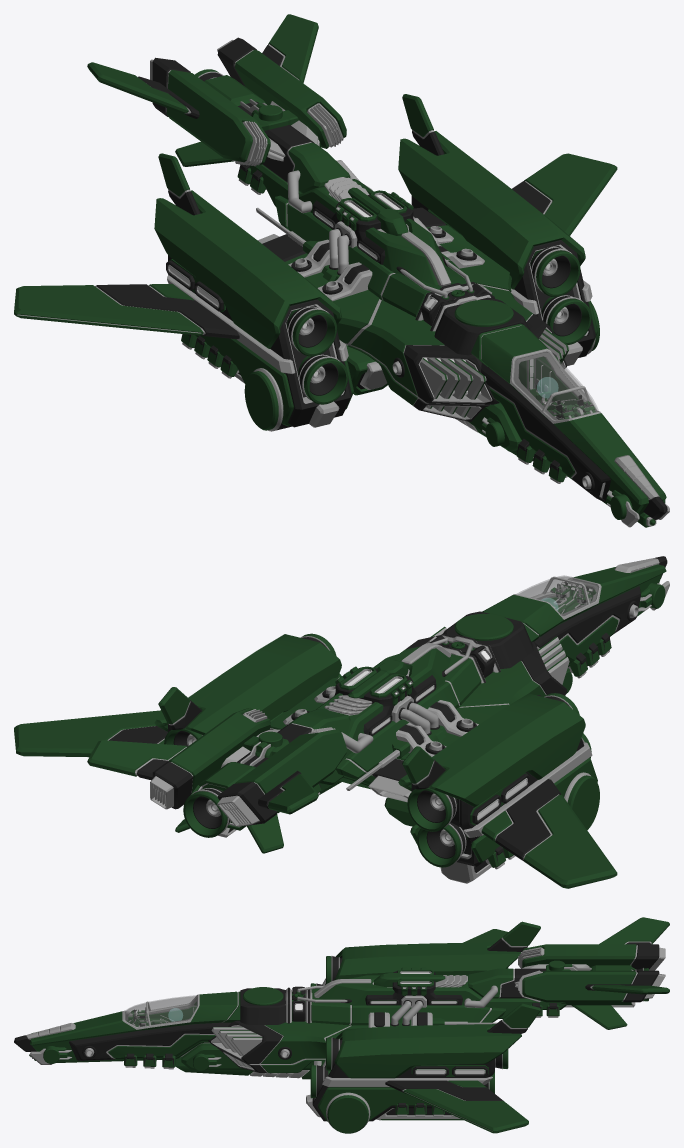
Rendered from FAT EAGLE MKIII FBX.fbx.
3 views of the same model, one above another, from view 1: azimuth 30°, elevation 25°; view 2: azimuth 150°, elevation 25°; view 3: azimuth 270°, elevation 25° (orthographic). The views are drawn at different scales.
Visible parts, largest first — view 1: Fat Eagle Mk III, Engine Parts, Engine R, Engine L, Canopy, Interior, Centre Pieces; view 2: Fat Eagle Mk III, Engine Parts, Engine R, Engine L, Centre Pieces, Canopy, Interior; view 3: Fat Eagle Mk III, Engine L, Engine Parts, Engine R, Canopy, Interior, Centre Pieces.
Part boxes in pixels (x1,y1,x2,y2): Fat Eagle Mk III: (87,14,669,527); Engine Parts: (14,153,617,431); Engine R: (154,153,353,427); Engine L: (398,94,597,365); Canopy: (513,351,598,419); Interior: (514,352,595,420); Centre Pieces: (195,69,655,525); Fat Eagle Mk III: (87,556,669,853); Engine Parts: (14,633,617,888); Engine R: (398,693,597,883); Engine L: (154,634,341,735); Centre Pieces: (183,613,513,837); Canopy: (517,575,598,615); Interior: (537,578,597,615); Fat Eagle Mk III: (14,917,669,1079); Engine L: (306,1003,540,1121); Engine Parts: (310,929,528,1133); Engine R: (322,921,540,985); Canopy: (125,995,197,1026); Interior: (124,997,197,1027); Centre Pieces: (29,960,648,1057).
Bounding box in the file's own units: 4474 × 1322 × 6149.
